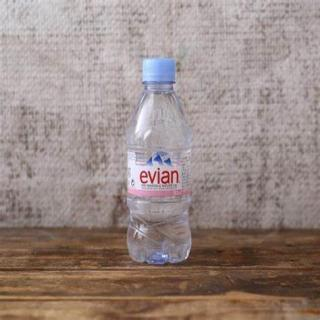Plastic-bottle: (122, 50, 201, 266)
